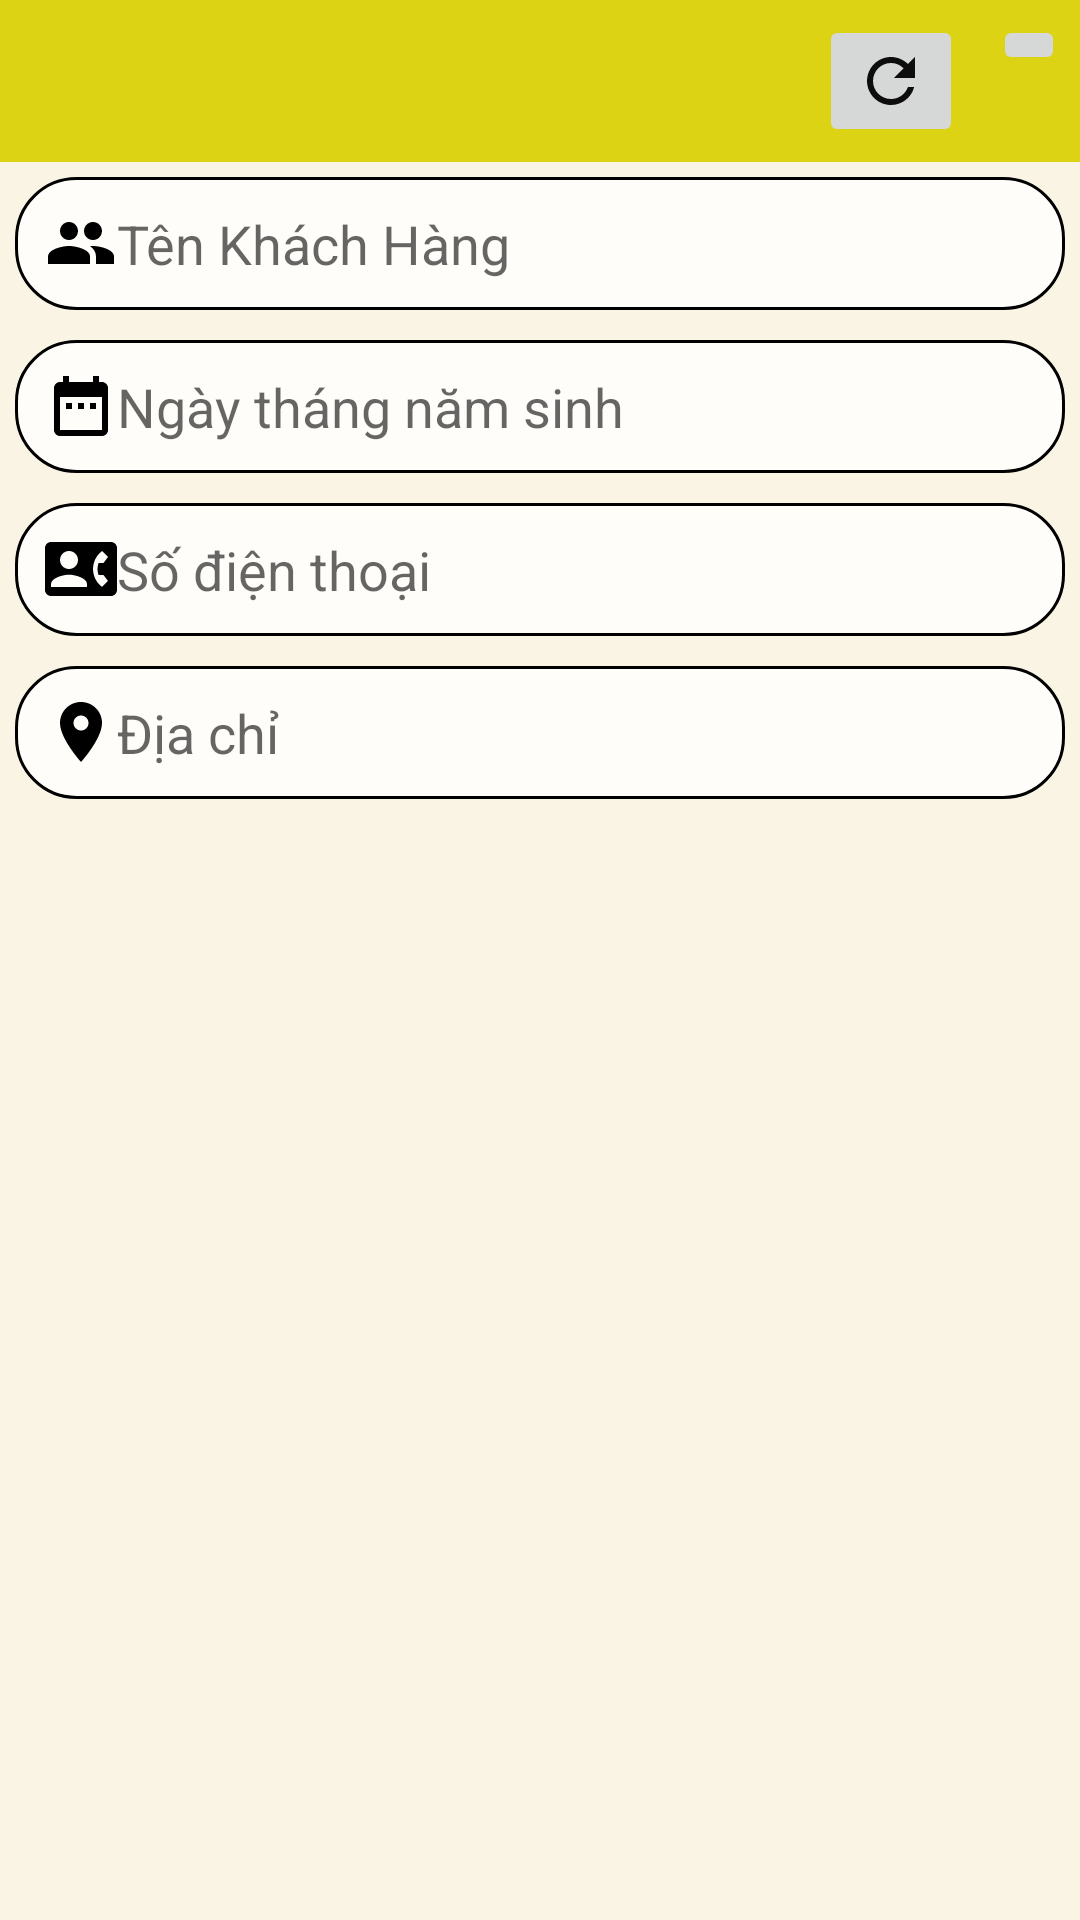

Point at icon controls on the screen. Image size 1080px×1920px, points as (x,y).
refresh: (891,81)
